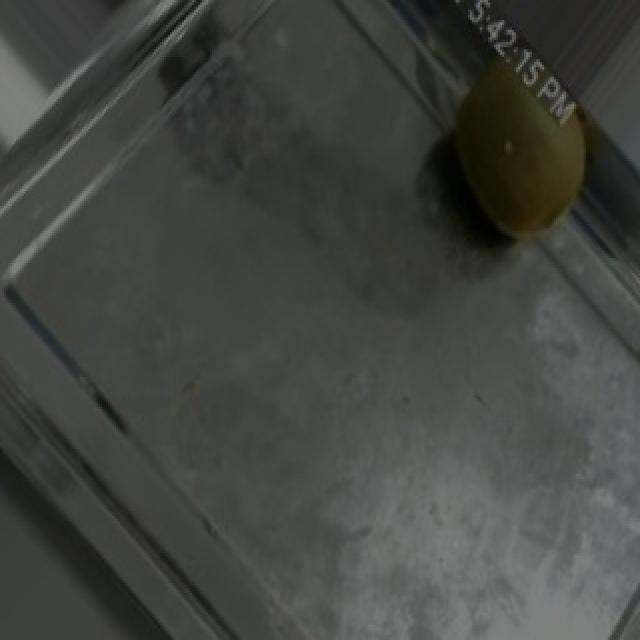Fruit: (406, 2, 632, 278)
